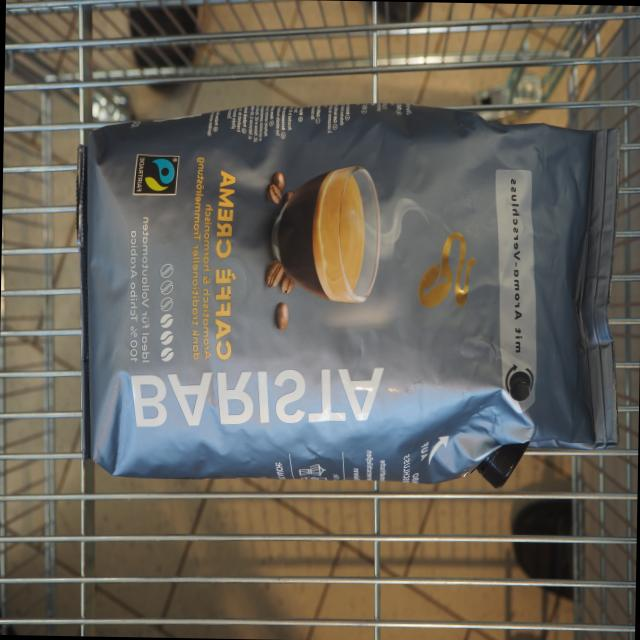Barista CC: (76, 92, 628, 500)
